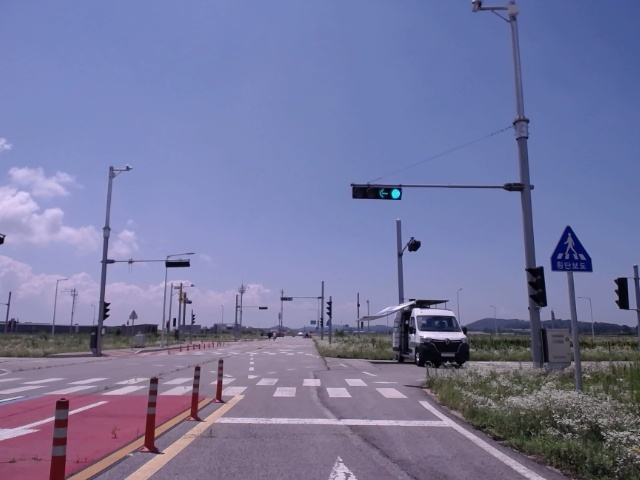all_green_4: (349, 182, 404, 198)
